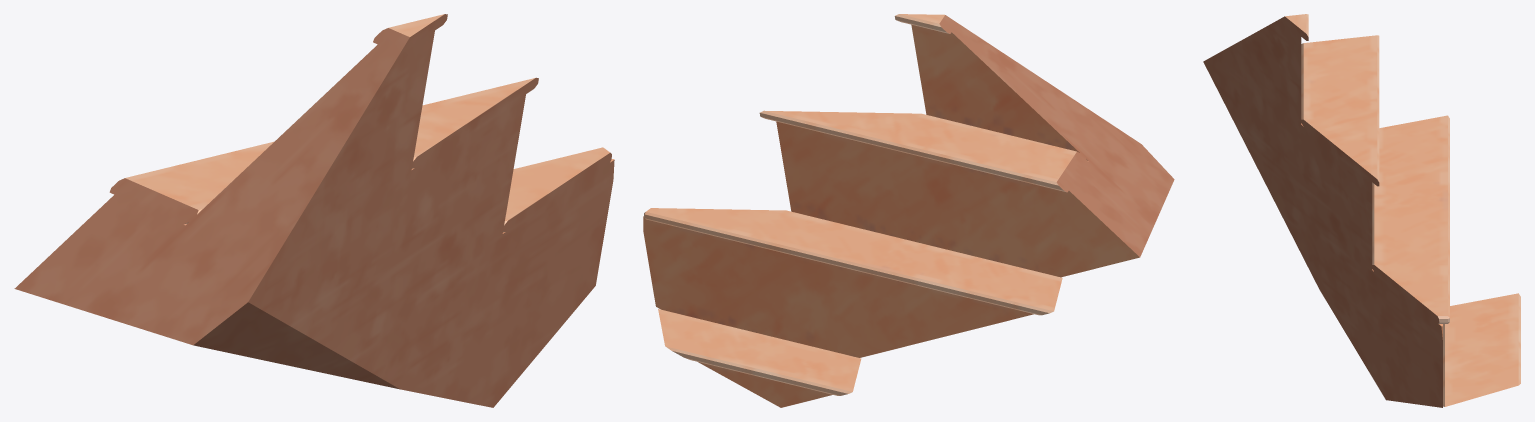
Rendered from stairs_s03.fbx.
The picture shows the model from 3 angles, left to right: view 1: azimuth 30°, elevation 25°; view 2: azimuth 150°, elevation 25°; view 3: azimuth 270°, elevation 25°; orthographic projection. The views are drawn at different scales.
Visible parts, largest first — view 1: stairs_s03; view 2: stairs_s03; view 3: stairs_s03.
Part boxes in pixels (x1,y1,x2,y2): stairs_s03: (14, 14, 614, 407); stairs_s03: (643, 14, 1174, 407); stairs_s03: (1203, 14, 1520, 407).
Bounding box in the file's own units: 7.59 × 5.14 × 4.49.
